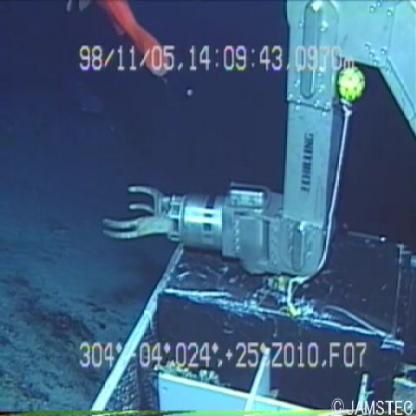Bio: (63, 1, 175, 91)
Rov: (98, 1, 416, 409)
